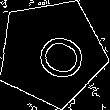O_NW: (19, 22, 85, 83)
